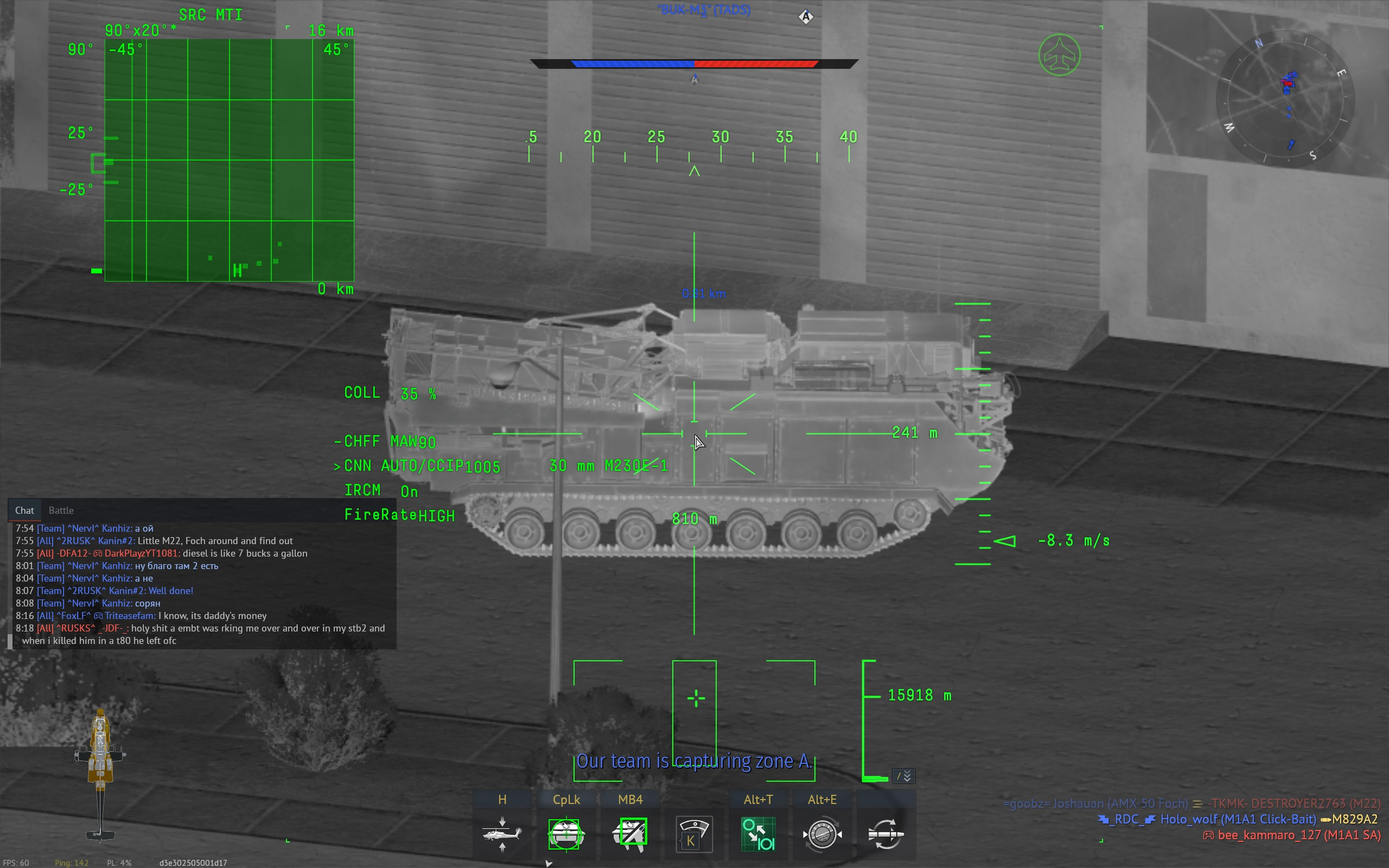BUK_TADS: (380, 306, 1015, 562)
